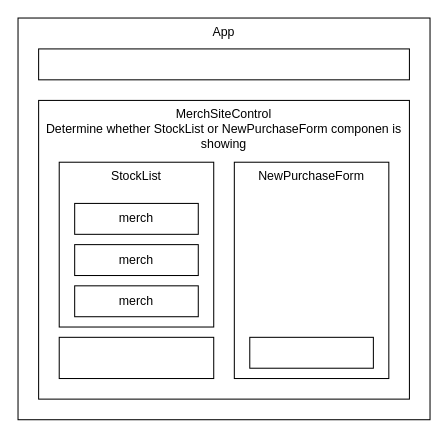
The diagram is 448 pixels wide and 438 high, and some of its shapes have lost their labels. Here are the shapes that lost their labels. From the top down, the centre of each, then its label:
At point (223, 64): "Header".
At point (136, 357): "NewPurchase".
At point (311, 352): "SubmitPurchase".
